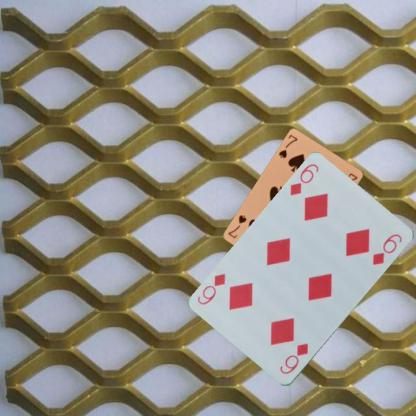6d: (276, 340, 310, 376), (287, 161, 320, 198)
7s: (276, 132, 299, 160)
